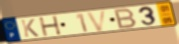1: (76, 12, 90, 33)
3: (137, 6, 159, 27)
B: (114, 7, 138, 30)
H: (37, 15, 63, 37)
K: (20, 18, 41, 38)
V: (85, 9, 108, 33)
